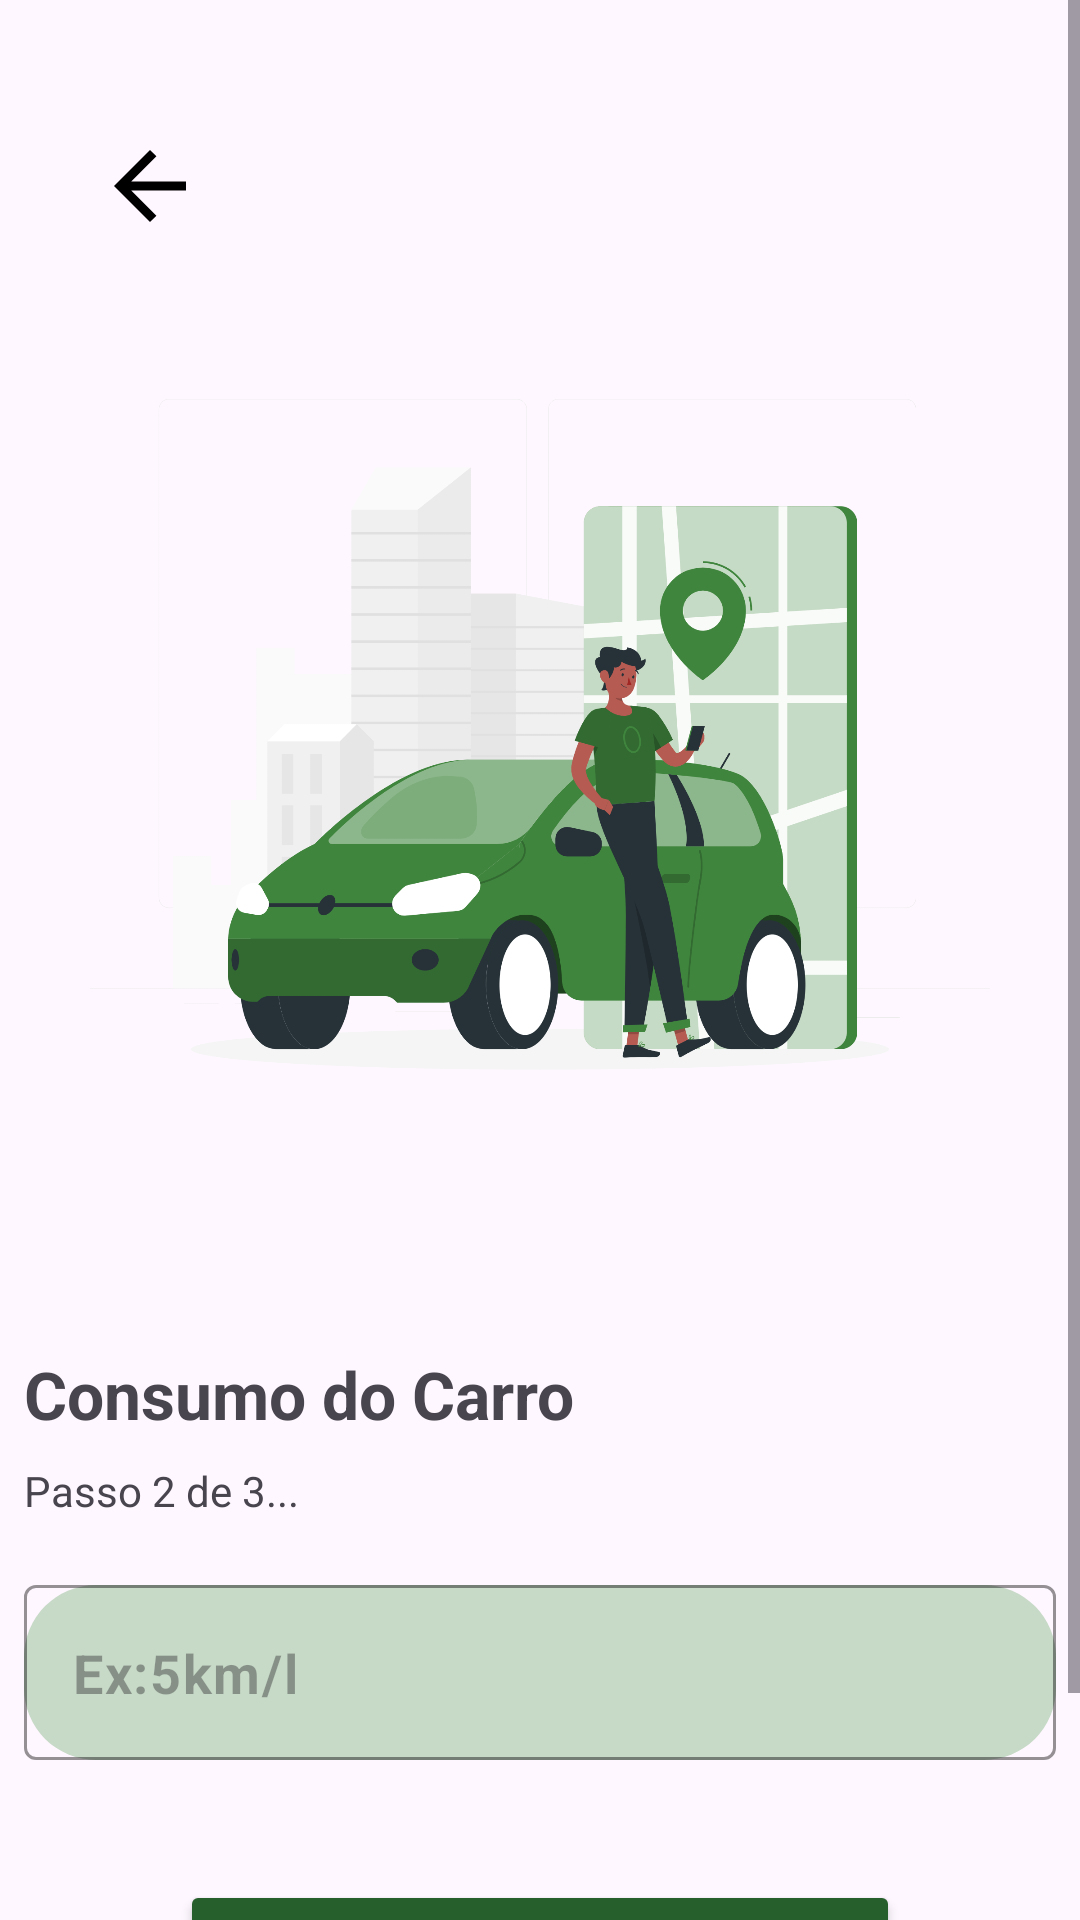

Named icons in this screenshot (1080px x 1920px) and their bounding boxes, (x1, y1, x2, y2):
Voltar: (114, 150, 186, 222)
